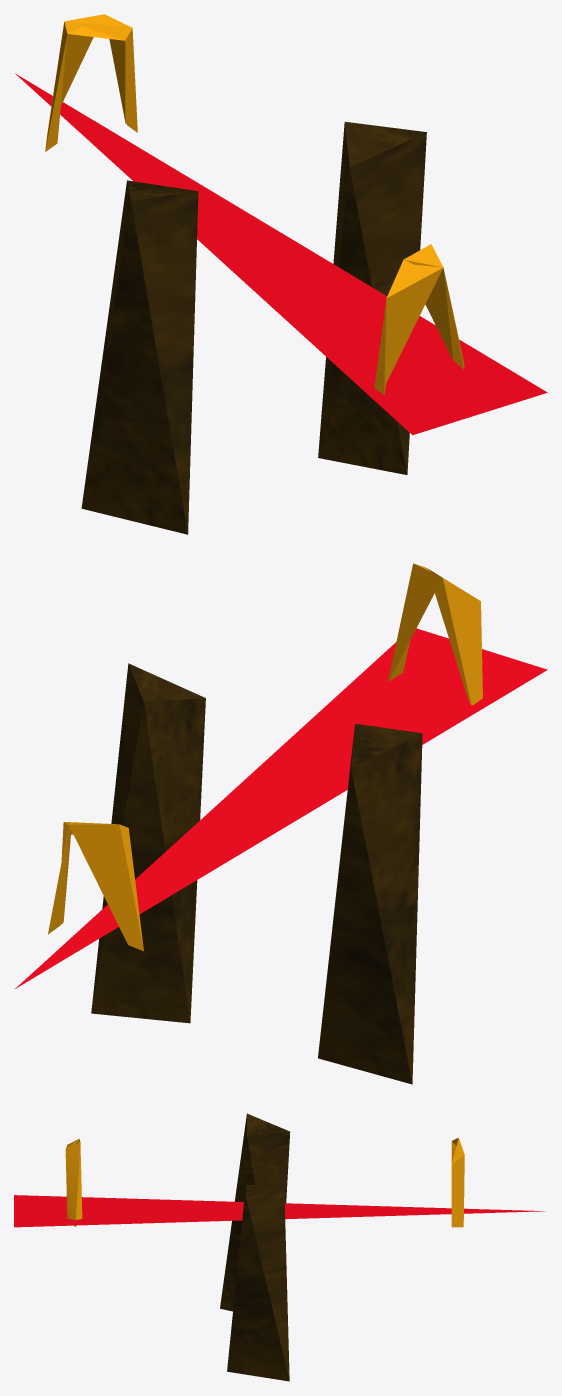
The model's file is GangorraVermelhaLOD2.fbx.
The picture shows the model from 3 angles, top to bottom: view 1: azimuth 30°, elevation 25°; view 2: azimuth 150°, elevation 25°; view 3: azimuth 270°, elevation 25°; orthographic projection. The views are drawn at different scales.
Visible parts, largest first — view 1: GangorraVermelha.LOD2; view 2: GangorraVermelha.LOD2; view 3: GangorraVermelha.LOD2.
Boxes of the visible parts, left/top/right/bottom form: GangorraVermelha.LOD2: left=15, top=14, right=547, bottom=534; GangorraVermelha.LOD2: left=15, top=563, right=547, bottom=1084; GangorraVermelha.LOD2: left=14, top=1113, right=544, bottom=1381.
Bounding box in the file's own units: 60.64 × 64.51 × 156.
